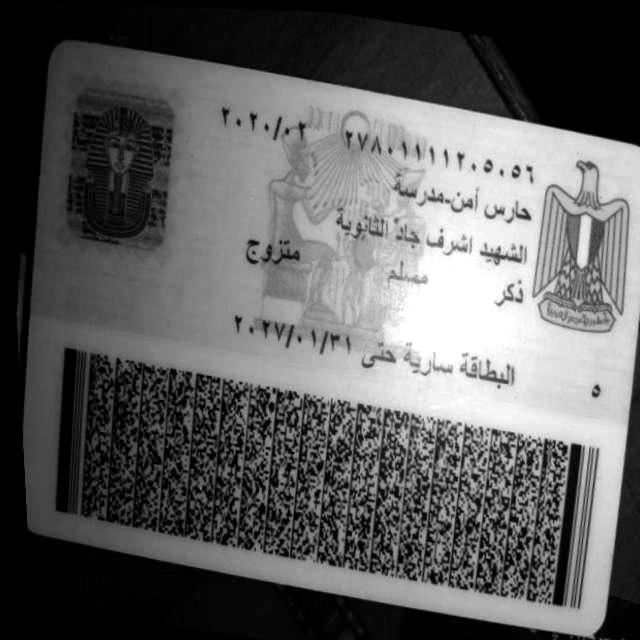id_card: (23, 41, 639, 632)
